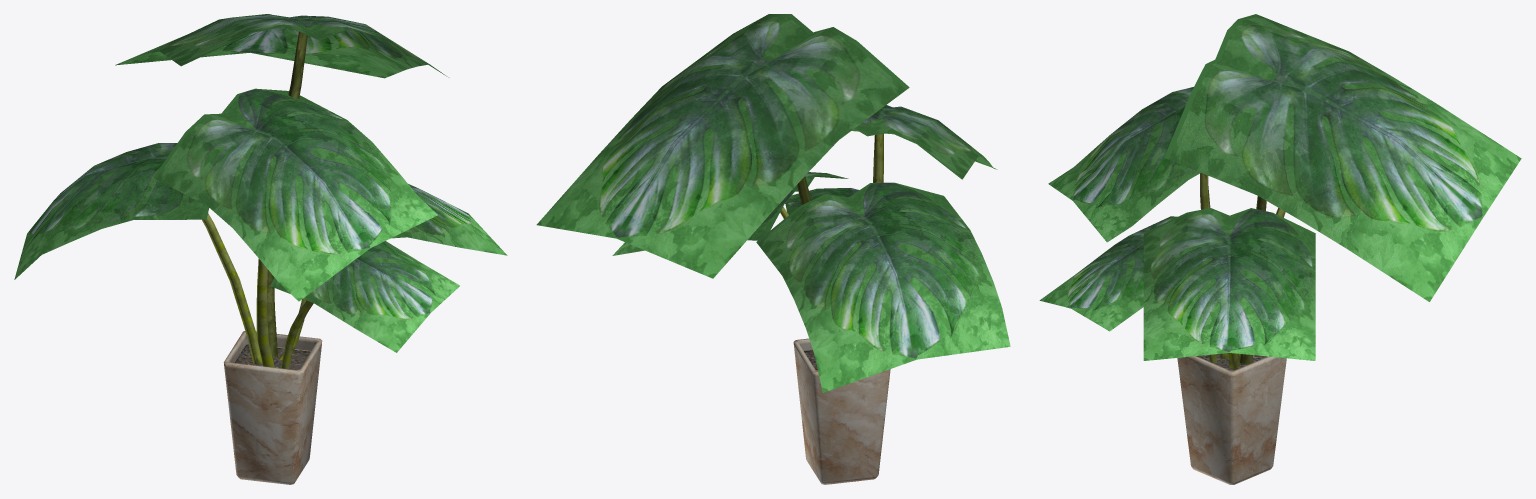
The model's file is Furniture_foliageplant_03_LOD0 #39145.fbx.
The picture shows the model from 3 angles, left to right: view 1: azimuth 30°, elevation 25°; view 2: azimuth 150°, elevation 25°; view 3: azimuth 270°, elevation 25°; orthographic projection.
Parts seen in each view (by area): view 1: F_foliageplant_03_2, F_foliageplant_03_1; view 2: F_foliageplant_03_2, F_foliageplant_03_1; view 3: F_foliageplant_03_2, F_foliageplant_03_1.
Part boxes in pixels (<box>): F_foliageplant_03_2: <box>14,14,507,368</box>; F_foliageplant_03_1: <box>223,331,322,484</box>; F_foliageplant_03_2: <box>536,14,1010,392</box>; F_foliageplant_03_1: <box>793,338,890,484</box>; F_foliageplant_03_2: <box>1039,14,1521,369</box>; F_foliageplant_03_1: <box>1177,354,1286,484</box>.
Bounding box in the file's own units: 0.6292 × 0.6275 × 0.618.
Materials: 2 (2 with a texture image).
